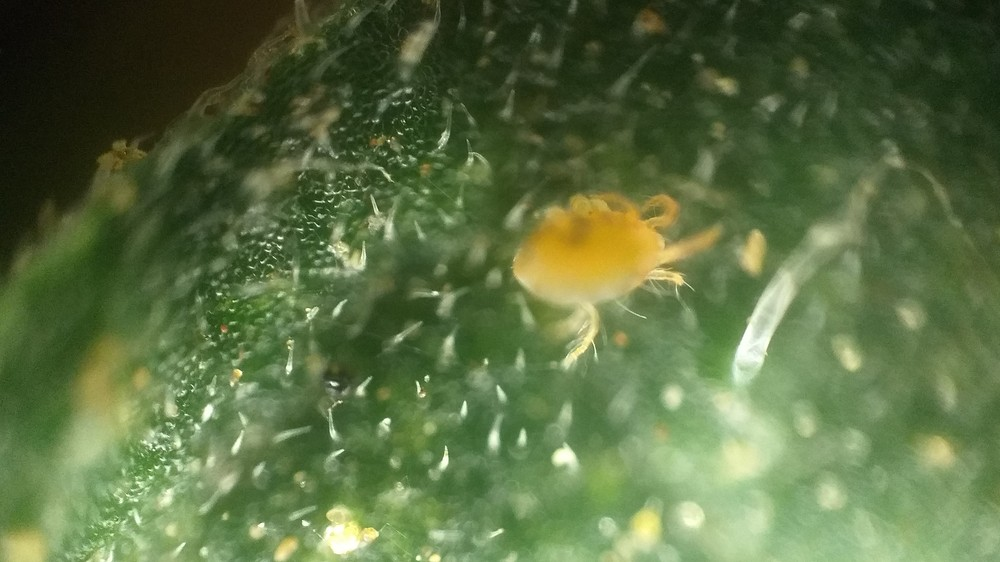Aracnido Rojo: (471, 166, 743, 378)
